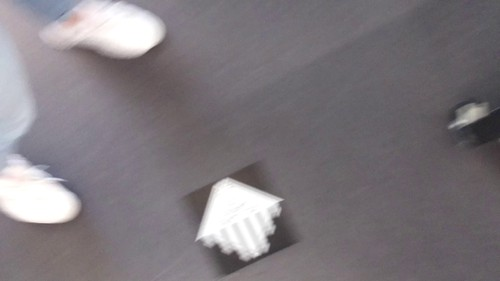misgoods: (198, 173, 284, 262)
